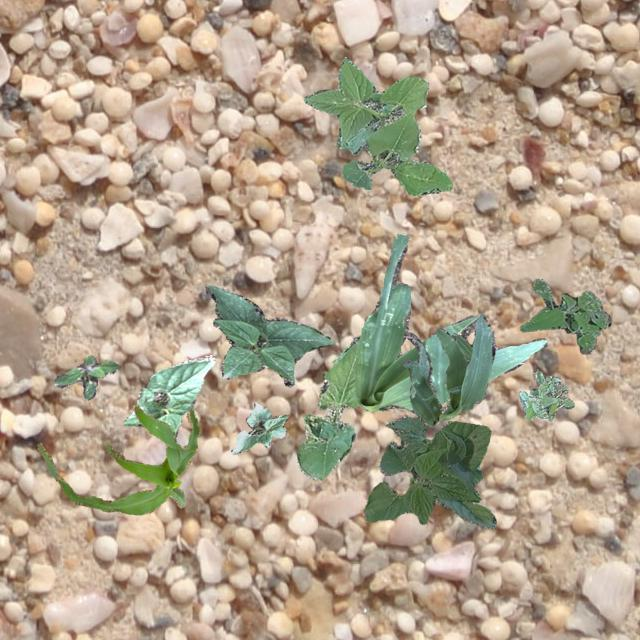crop: (354, 234, 546, 412), (36, 402, 198, 514), (362, 414, 494, 528), (205, 284, 332, 386), (402, 310, 494, 426), (295, 334, 359, 480), (122, 354, 214, 436), (230, 402, 286, 454)
weed: (302, 56, 450, 194), (518, 278, 610, 352), (53, 354, 119, 398), (518, 374, 574, 420), (528, 368, 554, 419)
